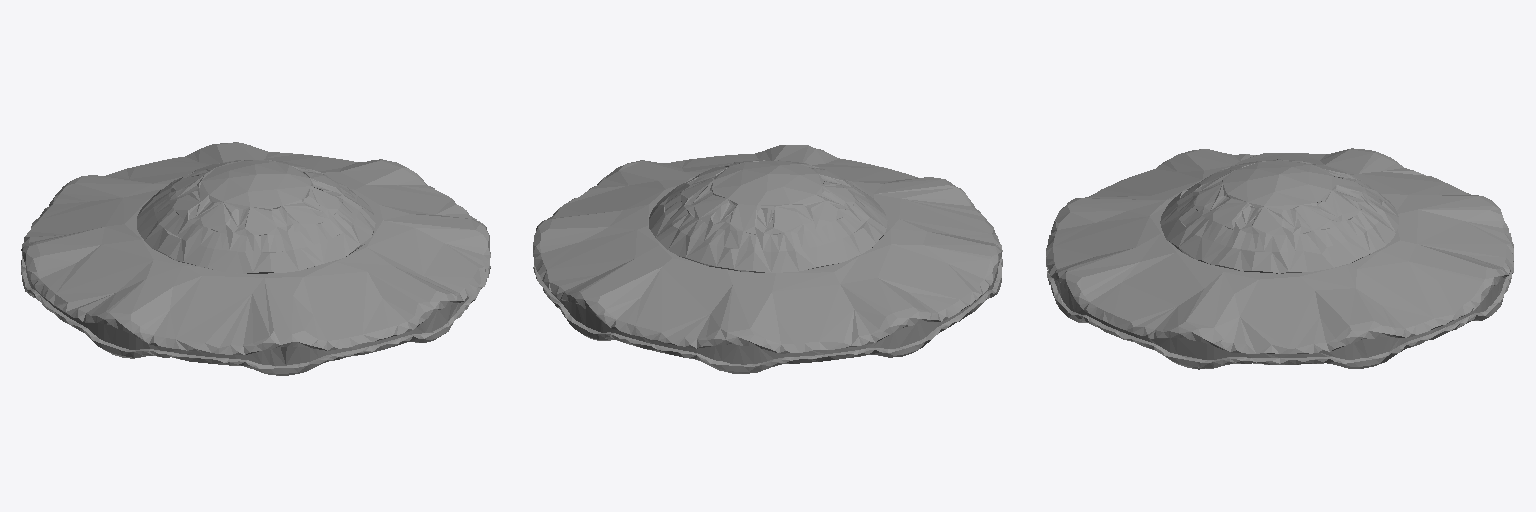
Rendered from frame_068.obj.
The picture shows the model from 3 angles: view 1: azimuth 30°, elevation 25°; view 2: azimuth 150°, elevation 25°; view 3: azimuth 270°, elevation 25°; orthographic projection.
Visible parts, largest first — view 1: 13884_UFO_Saucer_v1_l2; view 2: 13884_UFO_Saucer_v1_l2; view 3: 13884_UFO_Saucer_v1_l2.
Boxes of the visible parts, x1=… form: 13884_UFO_Saucer_v1_l2: x1=21, y1=142, x2=490, y2=375; 13884_UFO_Saucer_v1_l2: x1=533, y1=145, x2=1002, y2=373; 13884_UFO_Saucer_v1_l2: x1=1046, y1=148, x2=1513, y2=369.
Size of the model in its own units: 12.69 by 4.88 by 12.7.